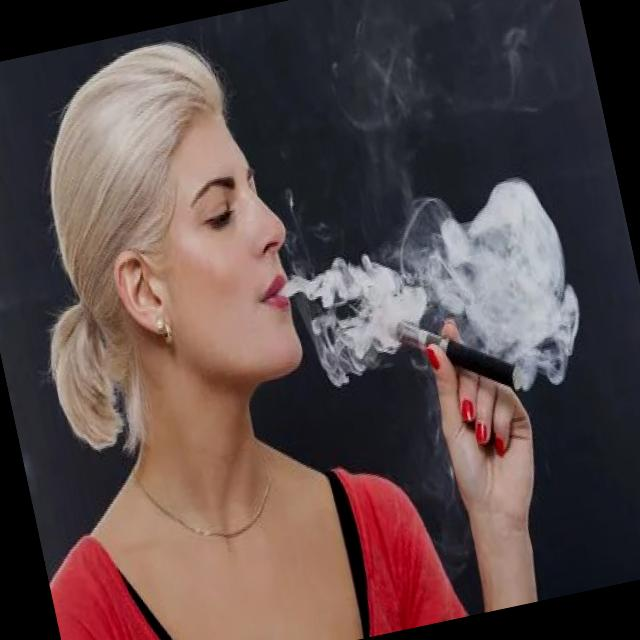cigarette: (368, 280, 530, 422)
